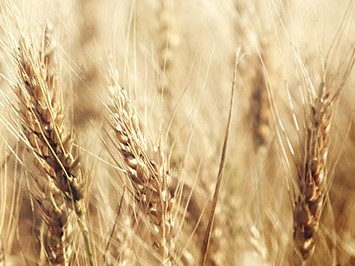Healthy Wheat: (18, 47, 91, 207), (288, 81, 342, 254)
